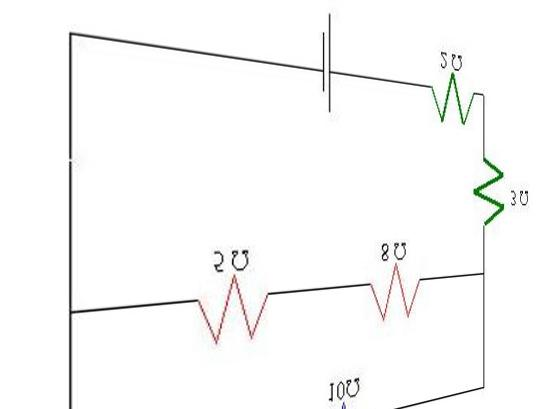resistor: (184, 267, 278, 342), (358, 256, 424, 324), (466, 150, 510, 226), (421, 66, 474, 128)
